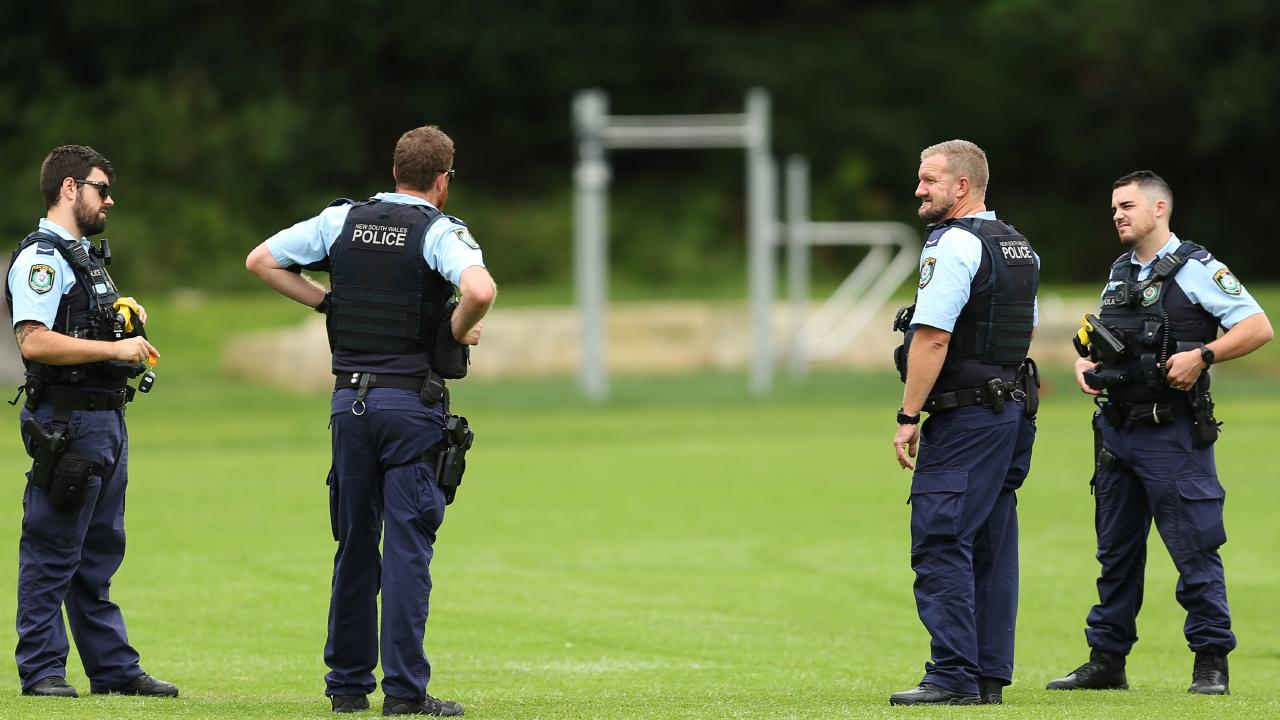Person: (247, 125, 499, 716), (1050, 168, 1271, 692), (5, 144, 180, 696), (892, 138, 1039, 702)
